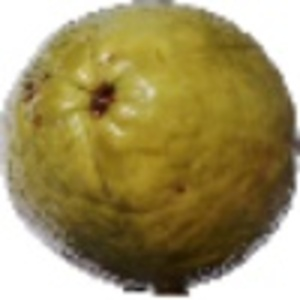goiaba: (3, 3, 296, 280)
